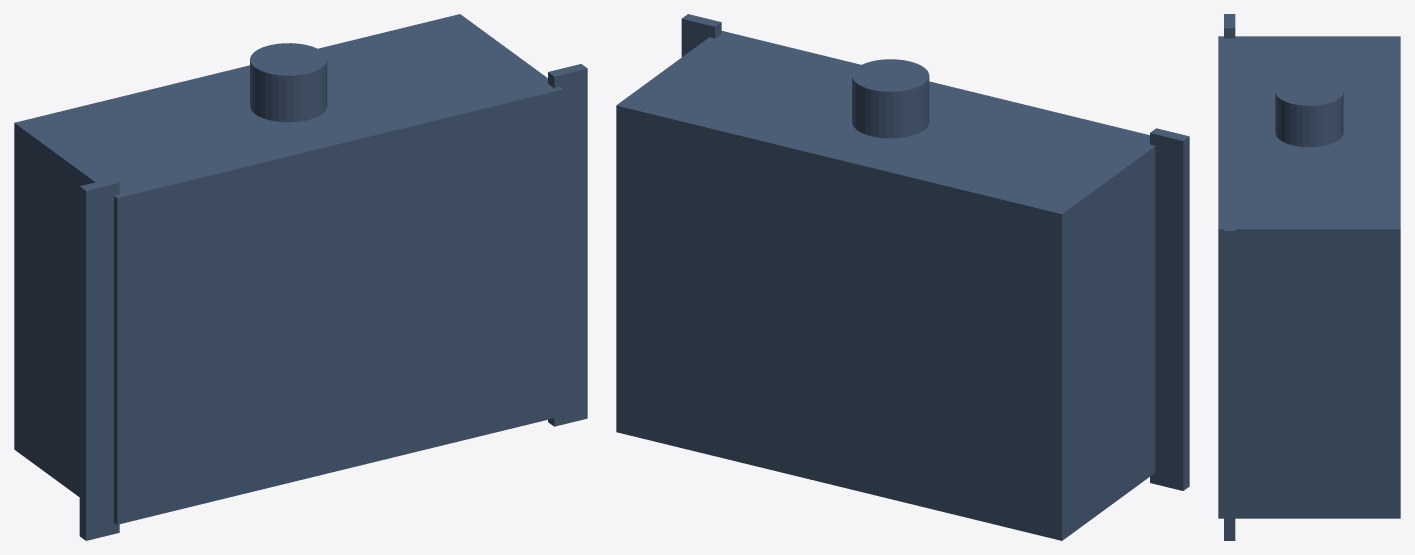
Rendered from emc_sample_chassis_904d65ea.glb.
The picture shows the model from 3 angles, left to right: view 1: azimuth 30°, elevation 25°; view 2: azimuth 150°, elevation 25°; view 3: azimuth 270°, elevation 25°; orthographic projection. The views are drawn at different scales.
Parts seen in each view (by area): view 1: world; view 2: world; view 3: world.
Boxes of the visible parts, bbox=[...] form: world: bbox=[14, 14, 587, 540]; world: bbox=[616, 14, 1189, 540]; world: bbox=[1218, 14, 1400, 540].
Bounding box in the file's own units: 2.25 × 1.65 × 0.8.
